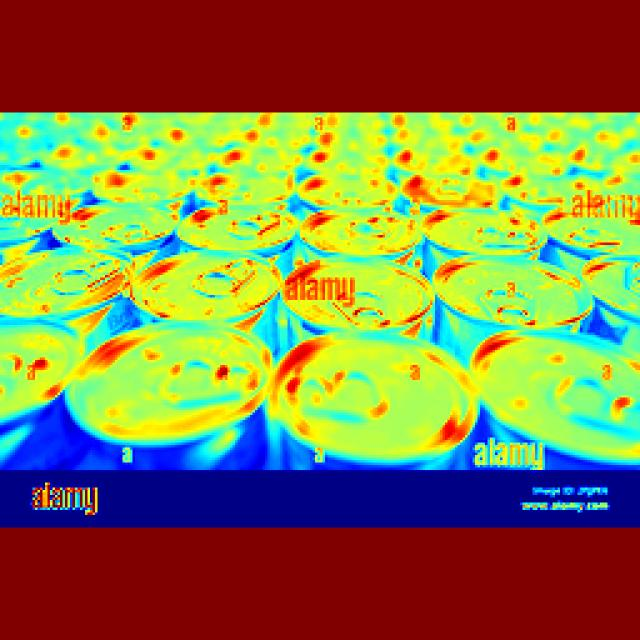Aluminium Food Cans: (270, 350, 464, 484), (474, 334, 640, 490), (84, 328, 266, 469), (280, 252, 432, 348), (424, 258, 586, 338), (17, 244, 133, 322), (166, 256, 274, 318), (433, 210, 542, 262), (314, 205, 415, 258), (74, 195, 172, 247), (108, 155, 194, 212), (203, 207, 288, 257), (550, 213, 636, 257), (201, 174, 277, 210), (600, 270, 640, 330), (295, 176, 372, 204), (509, 178, 589, 202), (398, 182, 473, 207)
